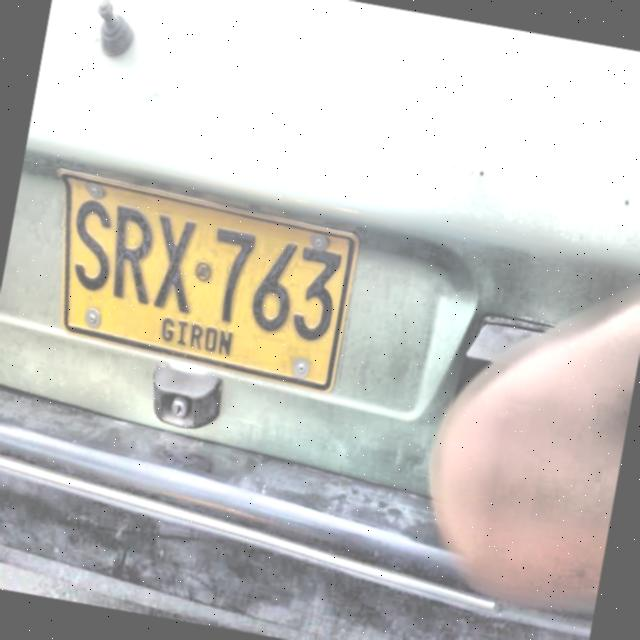3: (287, 244, 344, 346)
6: (245, 235, 301, 337)
7: (209, 225, 261, 326)
R: (110, 202, 156, 307)
S: (71, 195, 114, 295)
X: (150, 212, 198, 316)
